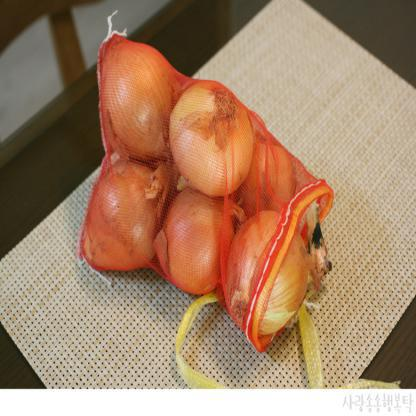onion: (167, 86, 256, 200), (240, 223, 297, 339)
